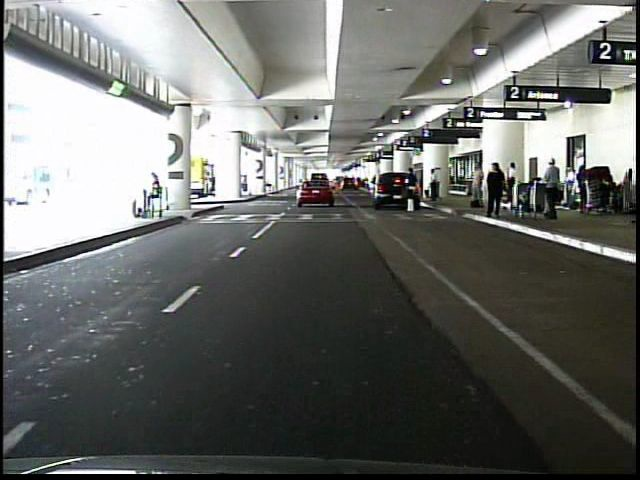person: (540, 156, 560, 222), (485, 161, 504, 216), (143, 171, 164, 220), (576, 164, 590, 214), (629, 155, 638, 225), (406, 168, 419, 214), (562, 168, 576, 207), (505, 160, 516, 201), (428, 168, 440, 204)
